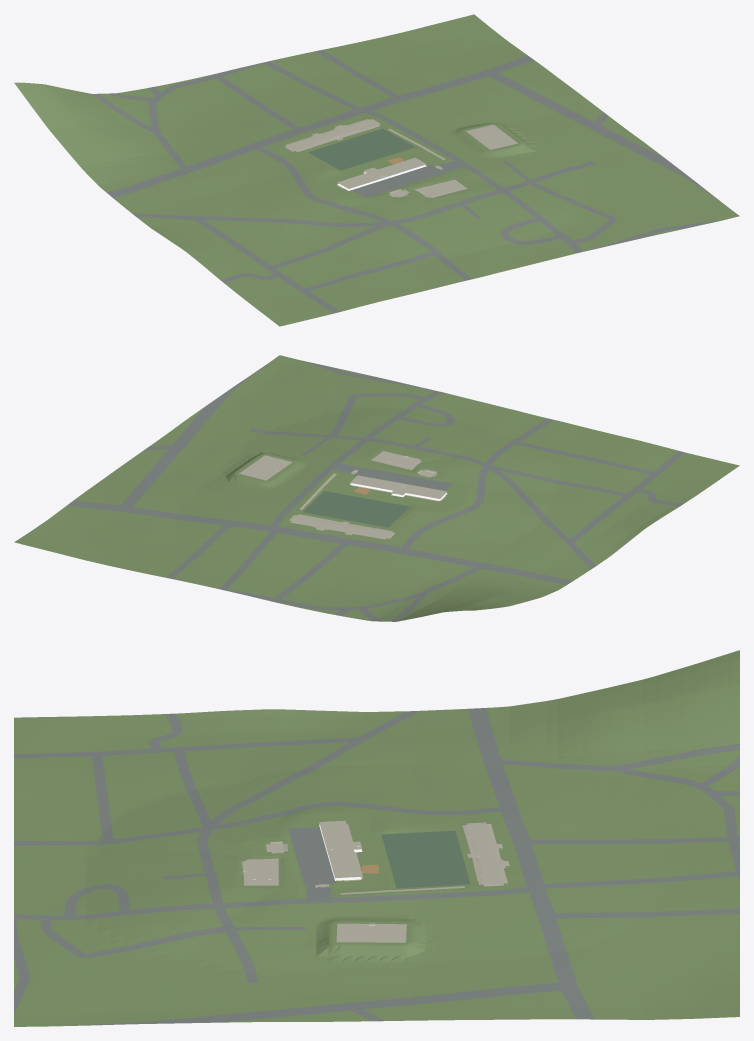
3 views of the same model, one above another, from view 1: azimuth 30°, elevation 25°; view 2: azimuth 150°, elevation 25°; view 3: azimuth 270°, elevation 25° (orthographic). The views are drawn at different scales.
Parts seen in each view (by area): view 1: surface_ground, surface_osm-road-663067052, surface_soccer-turf-pitch, surface_osm-road-553783124, surface_osm-road-553783130, surface_osm-road-415854812, surface_main-lower-forecourt, surface_osm-road-1390082149, surface_osm-road-553783129, surface_osm-road-553783128, surface_osm-road-1348171692, surface_under-rear (+7 smaller); view 2: surface_ground, surface_osm-road-663067052, surface_soccer-turf-pitch, surface_osm-road-553783124, surface_osm-road-553783130, surface_osm-road-415854812, surface_main-lower-forecourt, surface_osm-road-1390082149, surface_osm-road-553783129, surface_osm-road-553783128, surface_under-rear, surface_osm-road-1348171692 (+9 smaller); view 3: surface_ground, surface_osm-road-663067052, surface_soccer-turf-pitch, surface_osm-road-553783124, surface_osm-road-553783130, surface_osm-road-415854812, surface_main-lower-forecourt, surface_osm-road-1390082149, surface_osm-road-553783129, surface_osm-road-1348171692, surface_osm-road-553783128, surface_under-rear (+14 smaller).
Boxes of the visible parts, bbox=[...] form: surface_ground: bbox=[14, 14, 739, 326]; surface_osm-road-663067052: bbox=[107, 68, 499, 198]; surface_soccer-turf-pitch: bbox=[308, 128, 414, 170]; surface_osm-road-553783124: bbox=[484, 71, 724, 204]; surface_osm-road-553783130: bbox=[363, 109, 581, 253]; surface_osm-road-415854812: bbox=[148, 59, 278, 170]; surface_main-lower-forecourt: bbox=[352, 165, 444, 197]; surface_osm-road-1390082149: bbox=[193, 219, 340, 313]; surface_osm-road-553783129: bbox=[251, 145, 391, 222]; surface_osm-road-553783128: bbox=[194, 216, 390, 227]; surface_osm-road-1348171692: bbox=[530, 182, 616, 243]; surface_under-rear: bbox=[287, 120, 378, 150]; surface_ground: bbox=[14, 355, 739, 621]; surface_osm-road-663067052: bbox=[114, 505, 572, 584]; surface_soccer-turf-pitch: bbox=[302, 491, 409, 527]; surface_osm-road-553783124: bbox=[119, 366, 263, 509]; surface_osm-road-553783130: bbox=[269, 391, 443, 529]; surface_osm-road-415854812: bbox=[208, 565, 485, 610]; surface_main-lower-forecourt: bbox=[353, 467, 452, 490]; surface_osm-road-1390082149: bbox=[570, 451, 684, 542]; surface_osm-road-553783129: bbox=[399, 465, 488, 551]; surface_osm-road-553783128: bbox=[484, 465, 572, 543]; surface_under-rear: bbox=[292, 515, 391, 538]; surface_osm-road-1348171692: bbox=[329, 393, 423, 435]; surface_ground: bbox=[14, 650, 739, 1026]; surface_osm-road-663067052: bbox=[468, 708, 579, 991]; surface_soccer-turf-pitch: bbox=[381, 830, 470, 888]; surface_osm-road-553783124: bbox=[57, 982, 570, 1026]; surface_osm-road-553783130: bbox=[14, 887, 537, 920]; surface_osm-road-415854812: bbox=[491, 759, 739, 883]; surface_main-lower-forecourt: bbox=[288, 827, 335, 885]; surface_osm-road-1390082149: bbox=[14, 737, 357, 758]; surface_osm-road-553783129: bbox=[209, 801, 510, 830]; surface_osm-road-1348171692: bbox=[40, 920, 225, 958]; surface_osm-road-553783128: bbox=[204, 738, 365, 828]; surface_under-rear: bbox=[467, 824, 504, 884].
Bounding box in the file's own units: 480 × 51.26 × 480.
5 materials, 5 textured.
